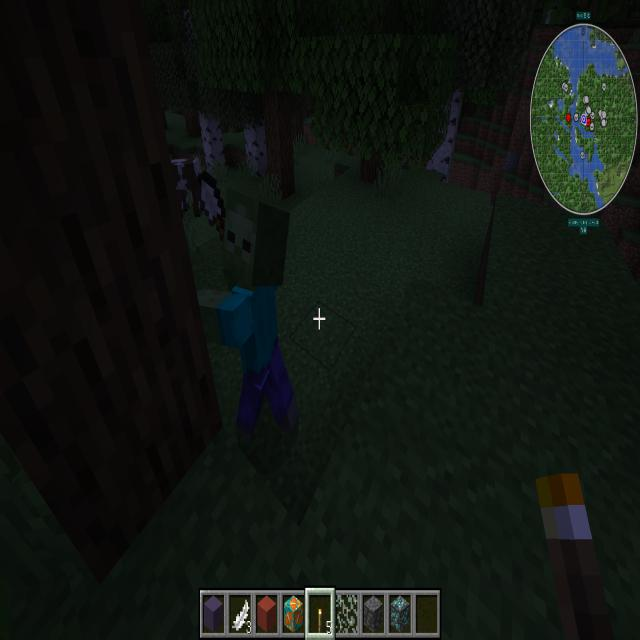Skeleton: (193, 161, 309, 470)
cow: (170, 151, 206, 229)
